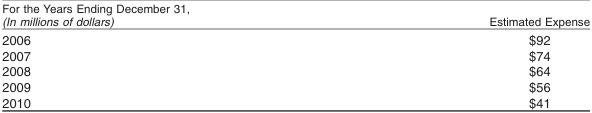table: (1, 1, 589, 109)
table column: (1, 1, 338, 109), (338, 1, 589, 109)
table column header: (1, 1, 589, 29)
table row: (1, 1, 589, 29), (1, 29, 589, 47), (1, 62, 589, 78), (1, 78, 589, 94), (1, 47, 589, 62), (1, 94, 589, 109)
